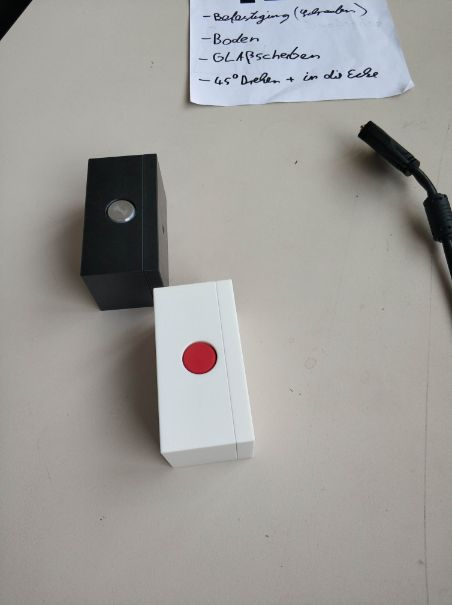black+black+silver: (79, 152, 172, 314)
white+white+red: (147, 277, 258, 473)
